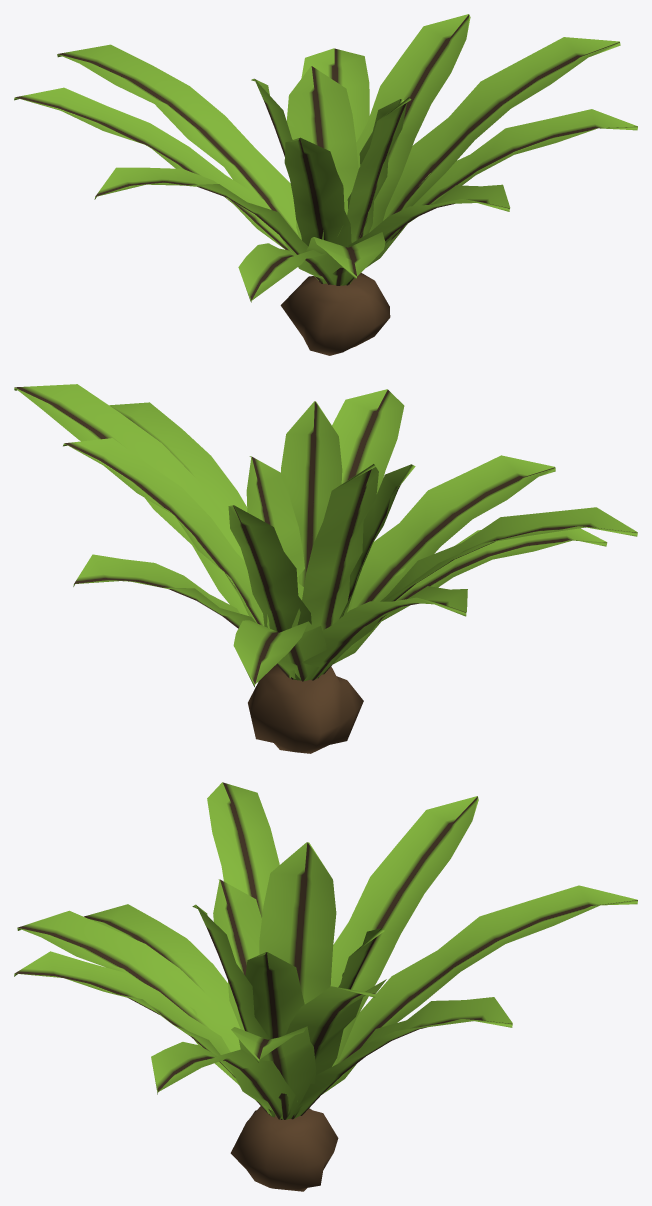
3 views of the same model, one above another, from view 1: azimuth 30°, elevation 25°; view 2: azimuth 150°, elevation 25°; view 3: azimuth 270°, elevation 25° (orthographic). The views are drawn at different scales.
Visible parts, largest first — view 1: foliage; view 2: foliage; view 3: foliage.
Boxes of the visible parts, <box> form: foliage: <box>14,14,637,355</box>; foliage: <box>14,384,637,753</box>; foliage: <box>14,782,637,1191</box>.
Size of the model in its own units: 1.87 by 0.9188 by 1.71.
1 material, 1 textured.
